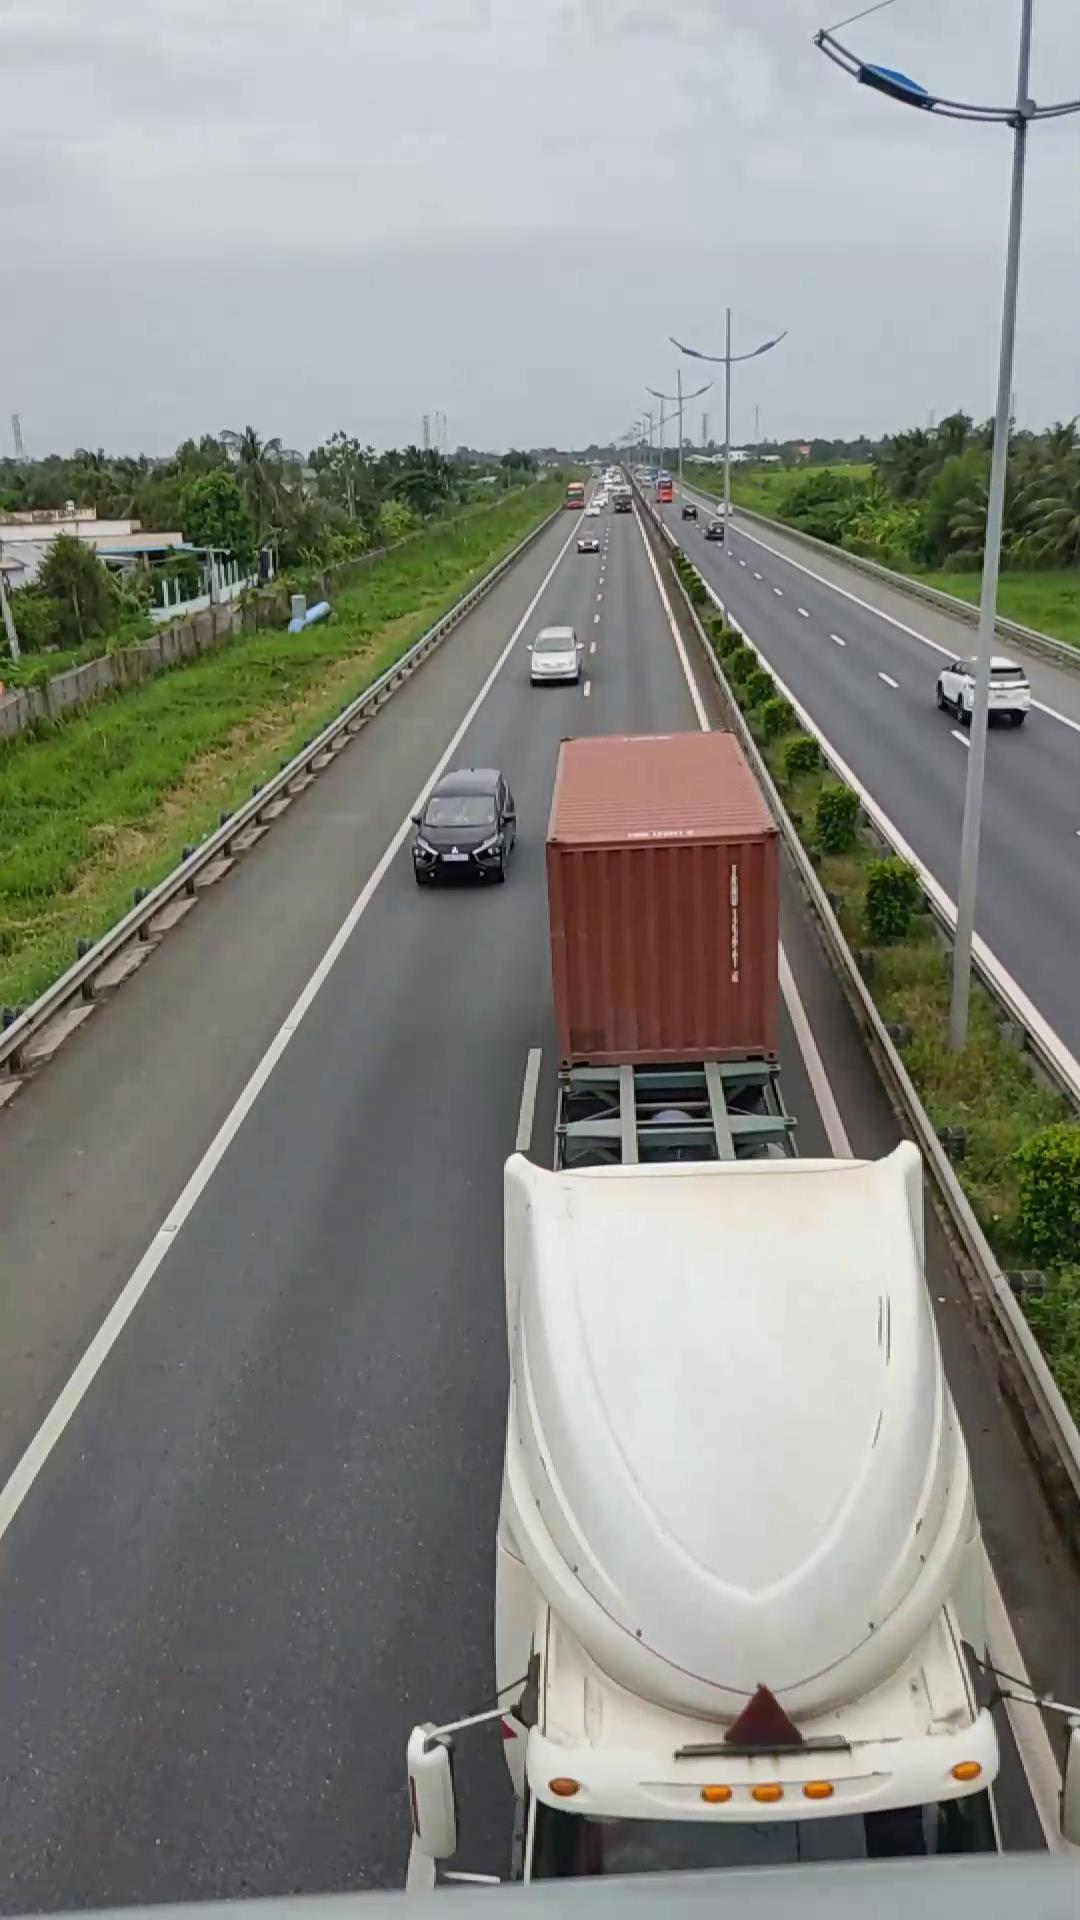car: (407, 766, 518, 884), (525, 622, 595, 684)
container: (477, 721, 993, 1884)
